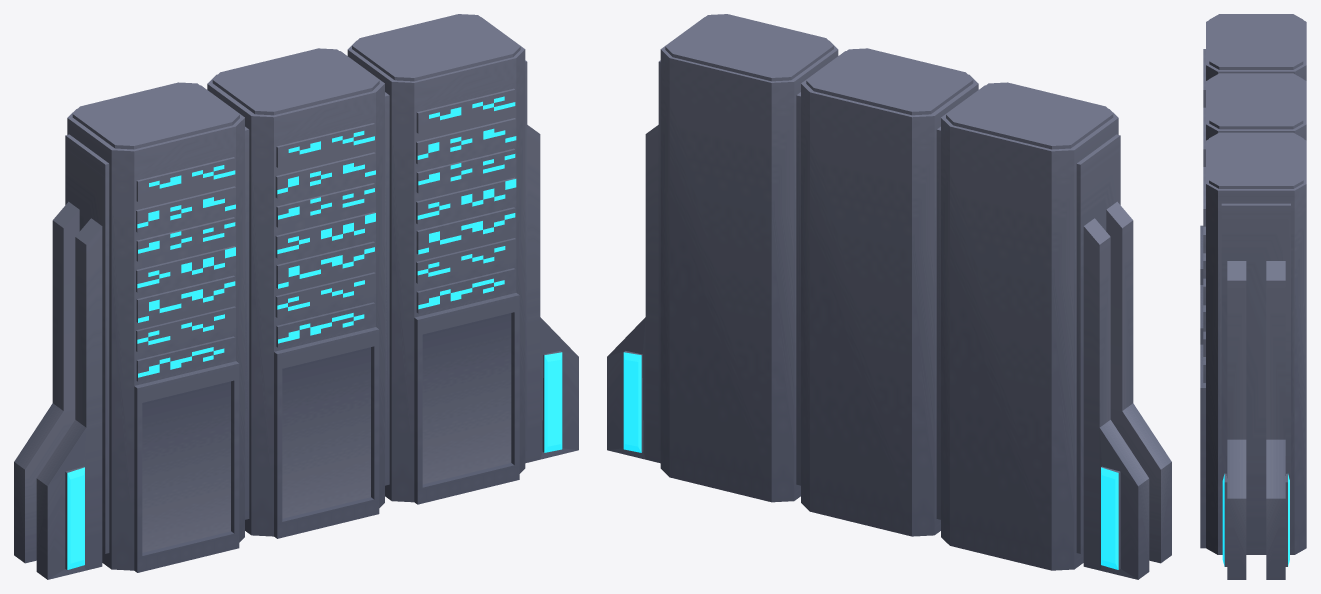
Rendered from server.fbx.
3 renders of one model, left to right at view 1: azimuth 30°, elevation 25°; view 2: azimuth 150°, elevation 25°; view 3: azimuth 270°, elevation 25°, orthographic. The views are drawn at different scales.
Visible parts, largest first — view 1: Cube.004, Cube.001, Cube; view 2: Cube.004, Cube.001, Cube; view 3: Cube.001, Cube.004, Cube.
Boxes of the visible parts, left/top/right/bottom form: Cube.004: left=14, top=82, right=247, bottom=579; Cube.001: left=347, top=14, right=578, bottom=504; Cube: left=207, top=48, right=386, bottom=538; Cube.004: left=938, top=82, right=1171, bottom=579; Cube.001: left=607, top=14, right=838, bottom=502; Cube: left=799, top=48, right=978, bottom=536; Cube.001: left=1200, top=132, right=1306, bottom=579; Cube.004: left=1200, top=14, right=1306, bottom=284; Cube: left=1200, top=73, right=1306, bottom=344.
Size of the model in its own units: 1590 by 1210 by 317.
